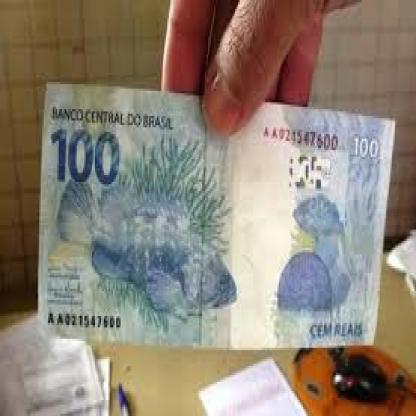billete: (36, 80, 395, 346)
